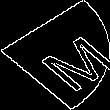M_NW: (8, 21, 102, 89)
